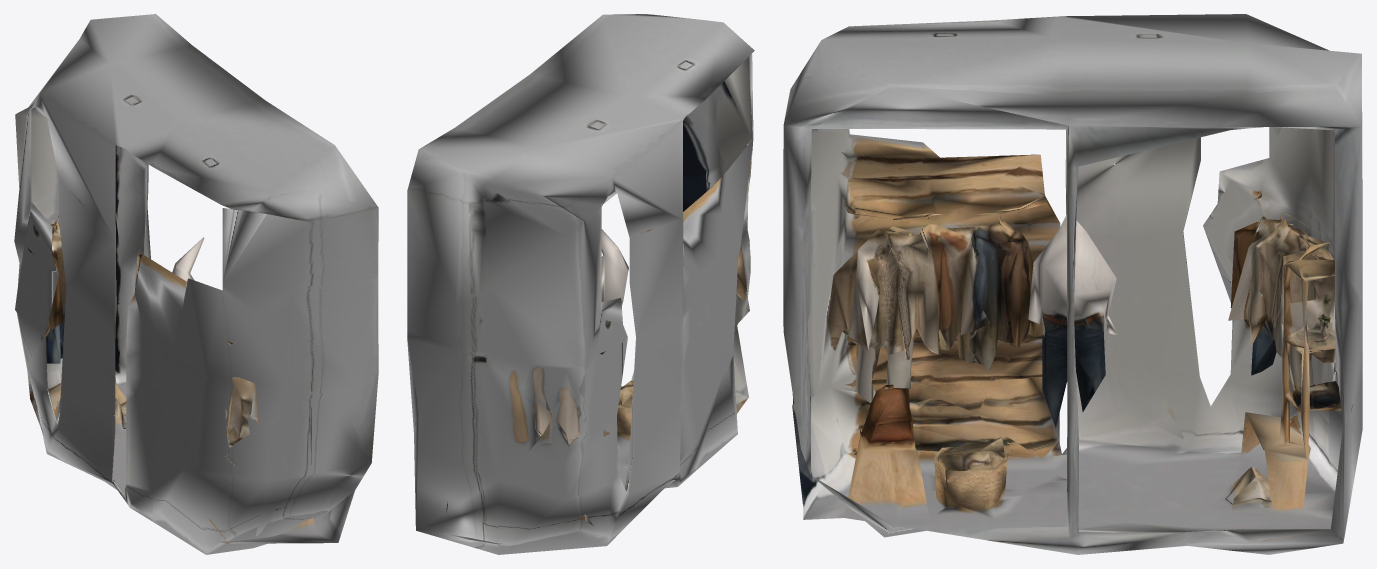
Rendered from frontelw_lod1.glb.
The picture shows the model from 3 angles, left to right: view 1: azimuth 30°, elevation 25°; view 2: azimuth 150°, elevation 25°; view 3: azimuth 270°, elevation 25°; orthographic projection. The views are drawn at different scales.
Parts seen in each view (by area): view 1: tripo_node_15f023c5-fded-41e5-b31d-ea46dc93f6ba; view 2: tripo_node_15f023c5-fded-41e5-b31d-ea46dc93f6ba; view 3: tripo_node_15f023c5-fded-41e5-b31d-ea46dc93f6ba.
Boxes of the visible parts, x1,y1,x2,y2 form: tripo_node_15f023c5-fded-41e5-b31d-ea46dc93f6ba: (14, 14, 378, 554); tripo_node_15f023c5-fded-41e5-b31d-ea46dc93f6ba: (407, 14, 754, 554); tripo_node_15f023c5-fded-41e5-b31d-ea46dc93f6ba: (783, 14, 1362, 554).
Bounding box in the file's own units: 0.8942 × 2.1 × 2.35.
1 material, 1 textured.
